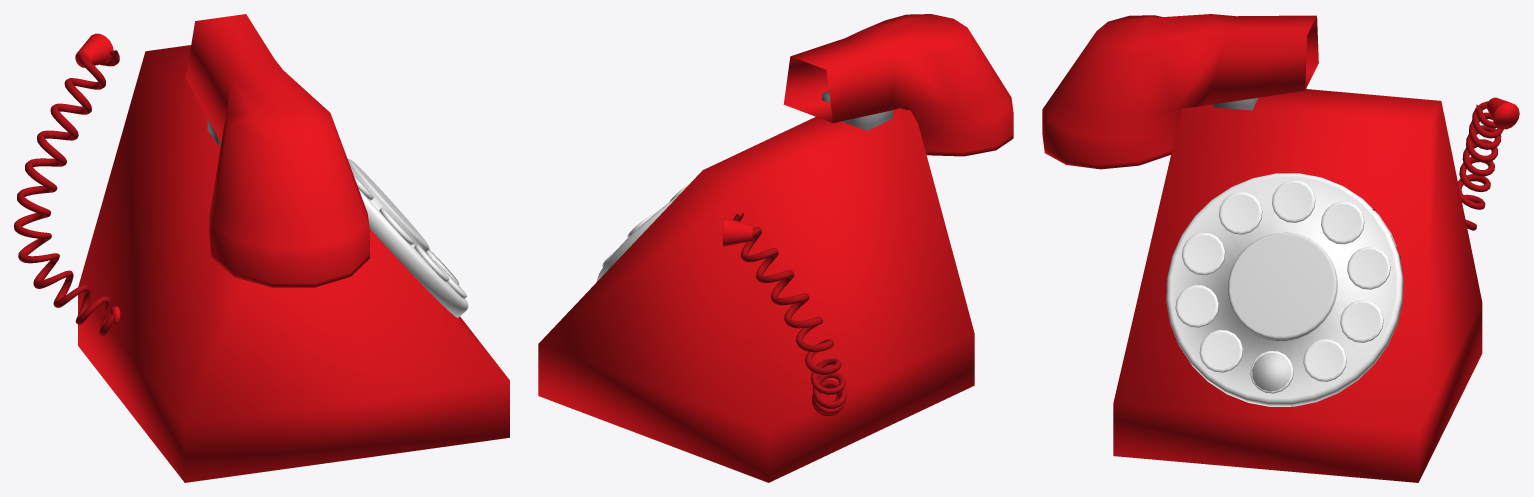
The model's file is bubblephone.glb.
3 renders of one model, left to right at view 1: azimuth 30°, elevation 25°; view 2: azimuth 150°, elevation 25°; view 3: azimuth 270°, elevation 25°, orthographic. The views are drawn at different scales.
Parts seen in each view (by area): view 1: Plane, Circle, Circle.002, Circle.001, Cylinder.001; view 2: Plane, Circle, Circle.002, Circle.001, Cylinder.001, Plane.001; view 3: Plane, Circle.001, Circle, Circle.002, Cylinder.004, Cylinder.009, Cylinder.012, Cylinder.003, Cylinder.005, Cylinder.008, Cylinder.007, Cylinder.011 (+3 smaller).
Part boxes in pixels (left/top/right/bottom): Plane: left=78, top=45, right=509, bottom=482; Circle: left=186, top=14, right=369, bottom=287; Circle.002: left=14, top=50, right=119, bottom=335; Circle.001: left=348, top=159, right=468, bottom=317; Cylinder.001: left=75, top=33, right=113, bottom=67; Plane: left=538, top=108, right=974, bottom=482; Circle: left=783, top=14, right=1013, bottom=156; Circle.002: left=733, top=213, right=846, bottom=416; Circle.001: left=596, top=195, right=678, bottom=281; Cylinder.001: left=723, top=218, right=753, bottom=246; Plane.001: left=822, top=91, right=892, bottom=130; Plane: left=1113, top=89, right=1482, bottom=482; Circle.001: left=1166, top=173, right=1403, bottom=406; Circle: left=1042, top=14, right=1318, bottom=169; Circle.002: left=1458, top=101, right=1503, bottom=230; Cylinder.004: left=1340, top=300, right=1383, bottom=342; Cylinder.009: left=1182, top=232, right=1225, bottom=275; Cylinder.012: left=1321, top=201, right=1364, bottom=244; Cylinder.003: left=1347, top=247, right=1390, bottom=289; Cylinder.005: left=1303, top=339, right=1346, bottom=381; Cylinder.008: left=1175, top=285, right=1218, bottom=327; Cylinder.007: left=1199, top=330, right=1242, bottom=372; Cylinder.011: left=1272, top=180, right=1315, bottom=222.
Size of the model in its own units: 2.43 by 2.52 by 3.06.
